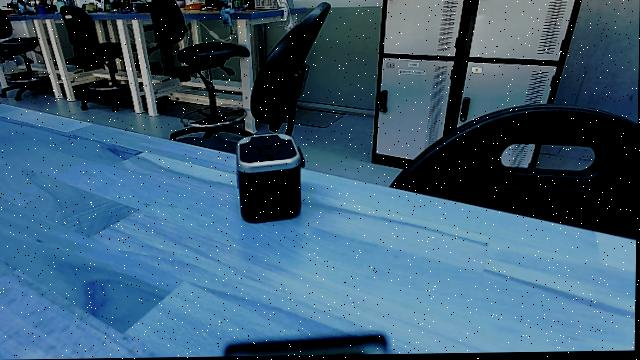adapter: (232, 128, 309, 230)
